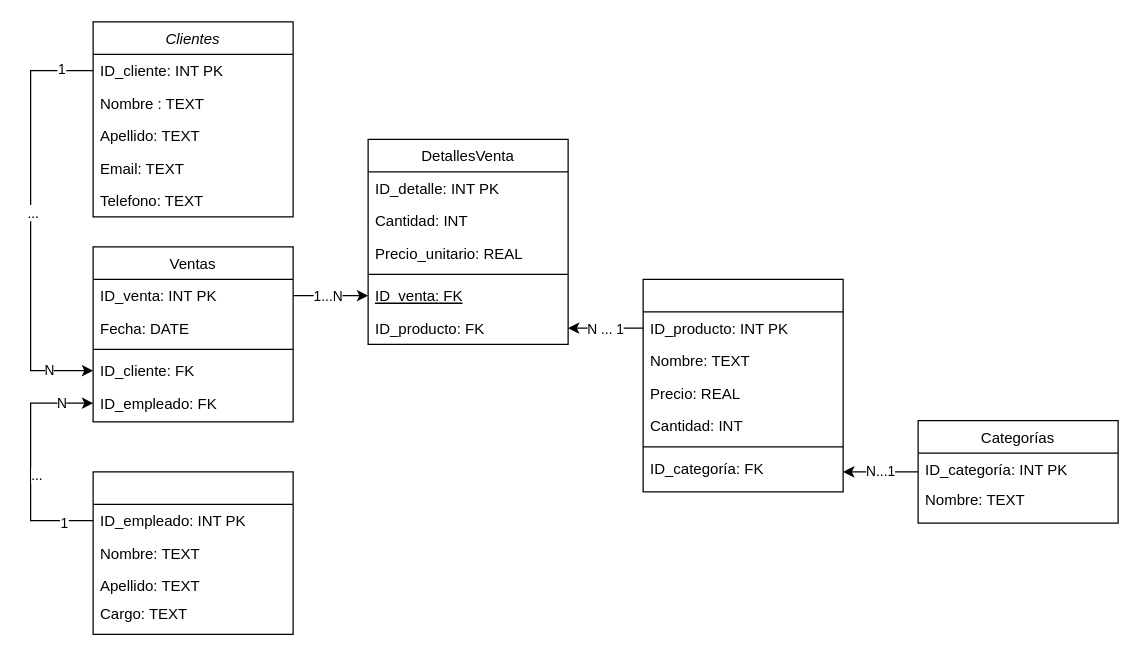
This 1140x656 diagram has some shape labels left out. The shapes that lost their labels are listed below. From the top down, each one's box as (x1, y1, x2, y2) in pixels, then its label:
(642, 278, 843, 492): Productos
(92, 471, 293, 634): Empleados
